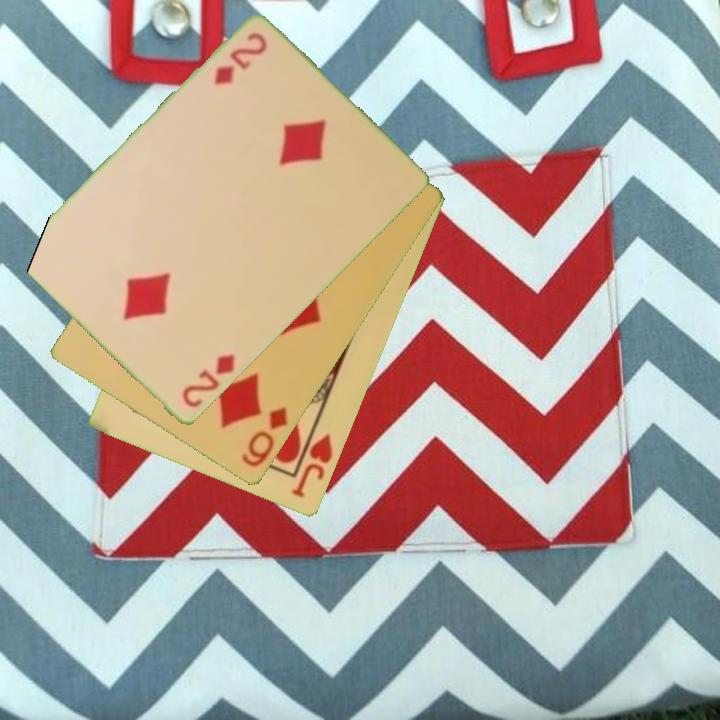2d: (178, 351, 238, 411), (210, 29, 270, 89)
6d: (238, 403, 291, 471)
Jh: (288, 430, 336, 501)
